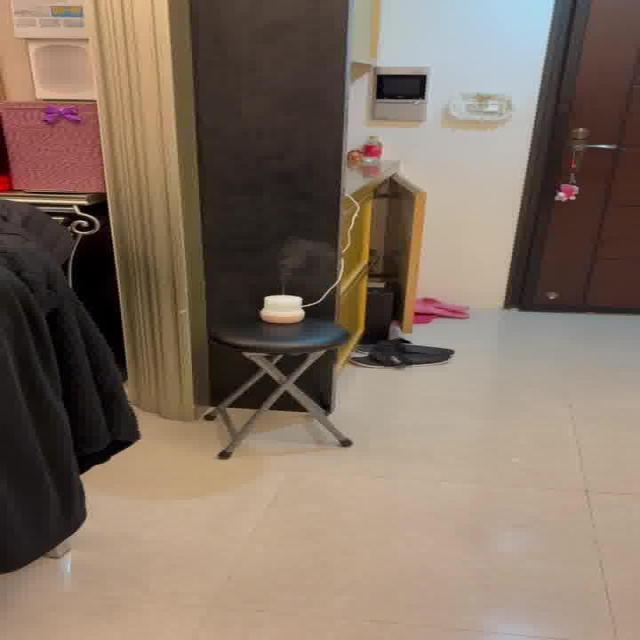fire: (271, 234, 327, 285)
